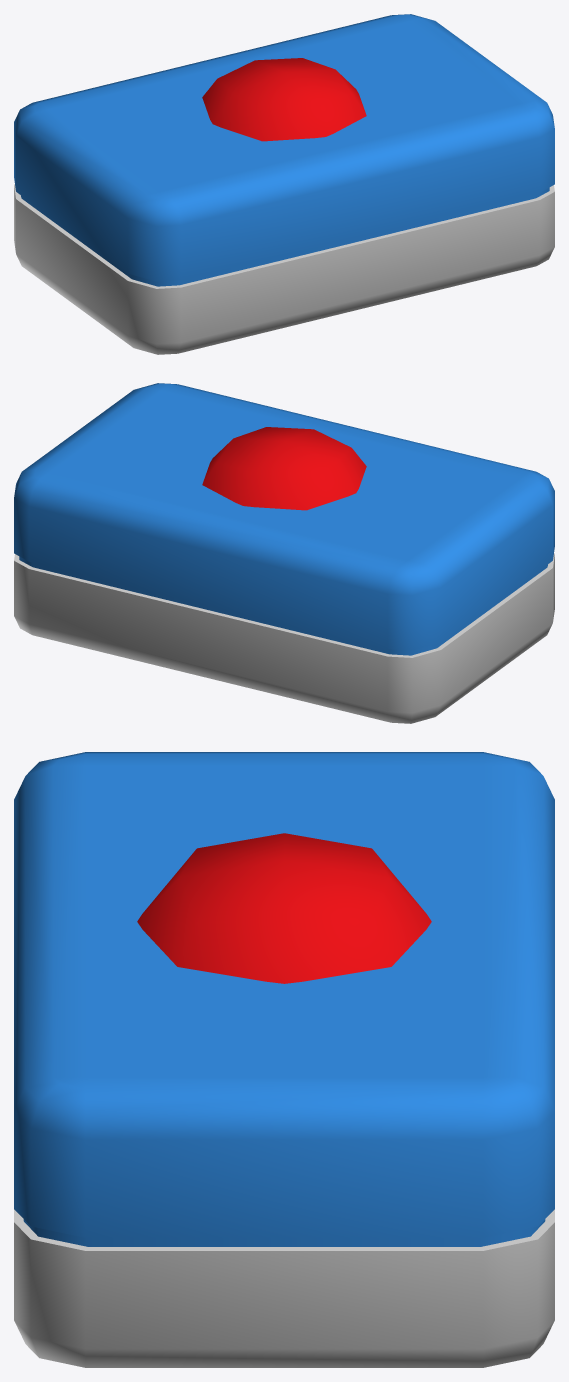
File: Pastilla lavavajillas.fbx
3 views of the same model, one above another, from view 1: azimuth 30°, elevation 25°; view 2: azimuth 150°, elevation 25°; view 3: azimuth 270°, elevation 25° (orthographic). The views are drawn at different scales.
Visible parts, largest first — view 1: PASTILLA LAVAVAJILLAS; view 2: PASTILLA LAVAVAJILLAS; view 3: PASTILLA LAVAVAJILLAS.
Boxes of the visible parts, box(x1,y1,x2,y2) form: PASTILLA LAVAVAJILLAS: box(14, 14, 554, 354); PASTILLA LAVAVAJILLAS: box(14, 383, 554, 723); PASTILLA LAVAVAJILLAS: box(14, 752, 554, 1367).
Size of the model in its own units: 4.59 by 1.96 by 2.84.
